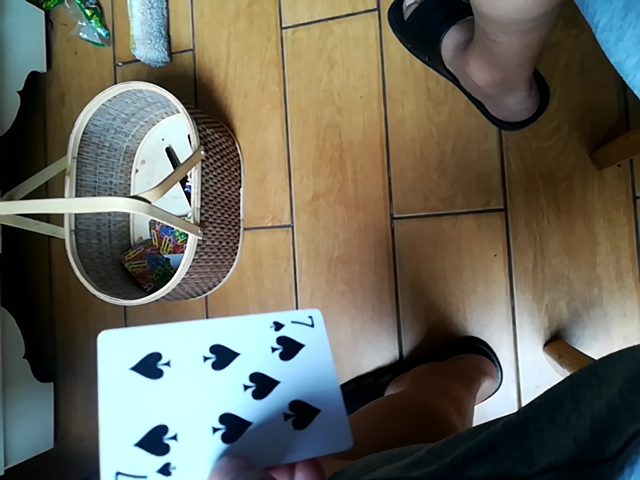ht 7: (98, 310, 350, 478)
